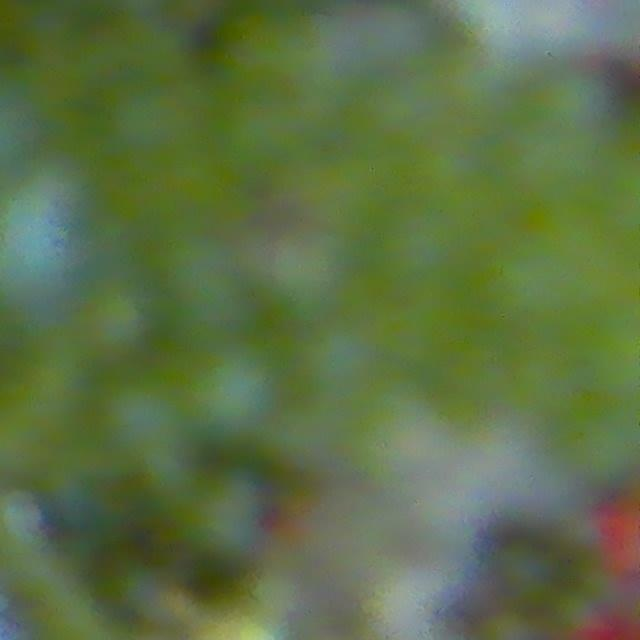SeaGrape: (179, 333, 285, 441), (95, 368, 194, 469), (180, 468, 271, 564), (293, 315, 381, 398), (80, 277, 160, 363), (357, 0, 432, 73), (537, 66, 614, 137)
